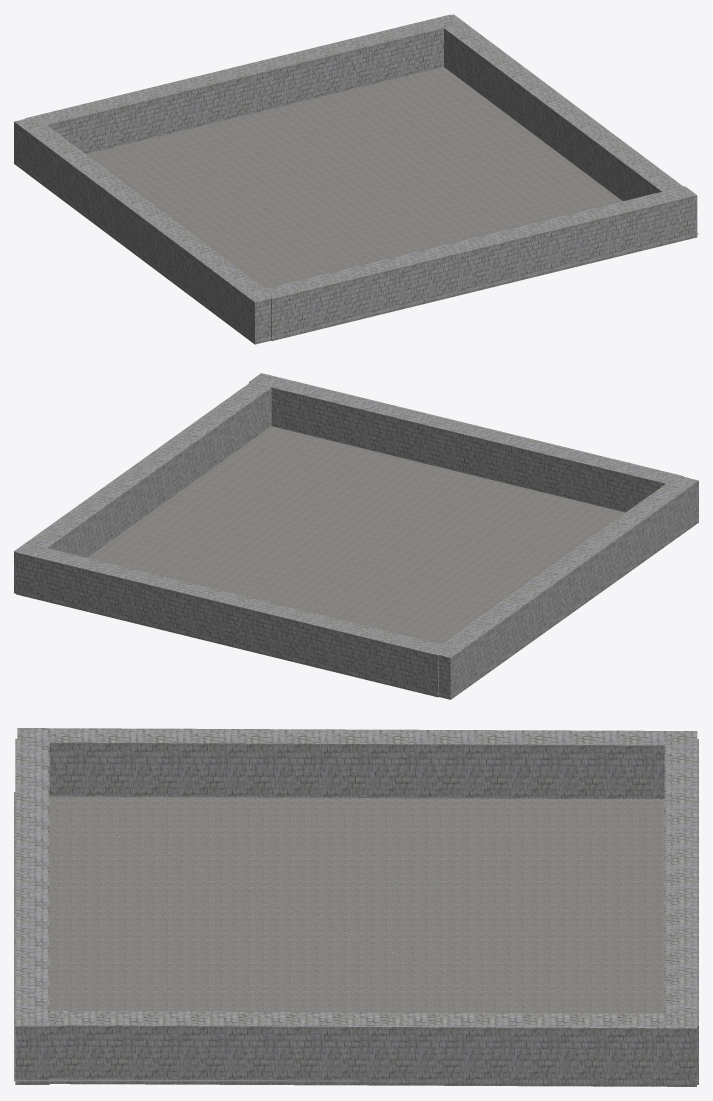
File: Maze_Test_2.glb
3 renders of one model, top to bottom at view 1: azimuth 30°, elevation 25°; view 2: azimuth 150°, elevation 25°; view 3: azimuth 270°, elevation 25°, orthographic. The views are drawn at different scales.
Parts seen in each view (by area): view 1: Plane; view 2: Plane; view 3: Plane.
Part boxes in pixels (x1,y1,x2,y2): Plane: (14, 14, 698, 344); Plane: (14, 373, 698, 699); Plane: (14, 728, 698, 1086).
Size of the model in its own units: 208 by 18.89 by 200.
2 materials, 2 textured.
